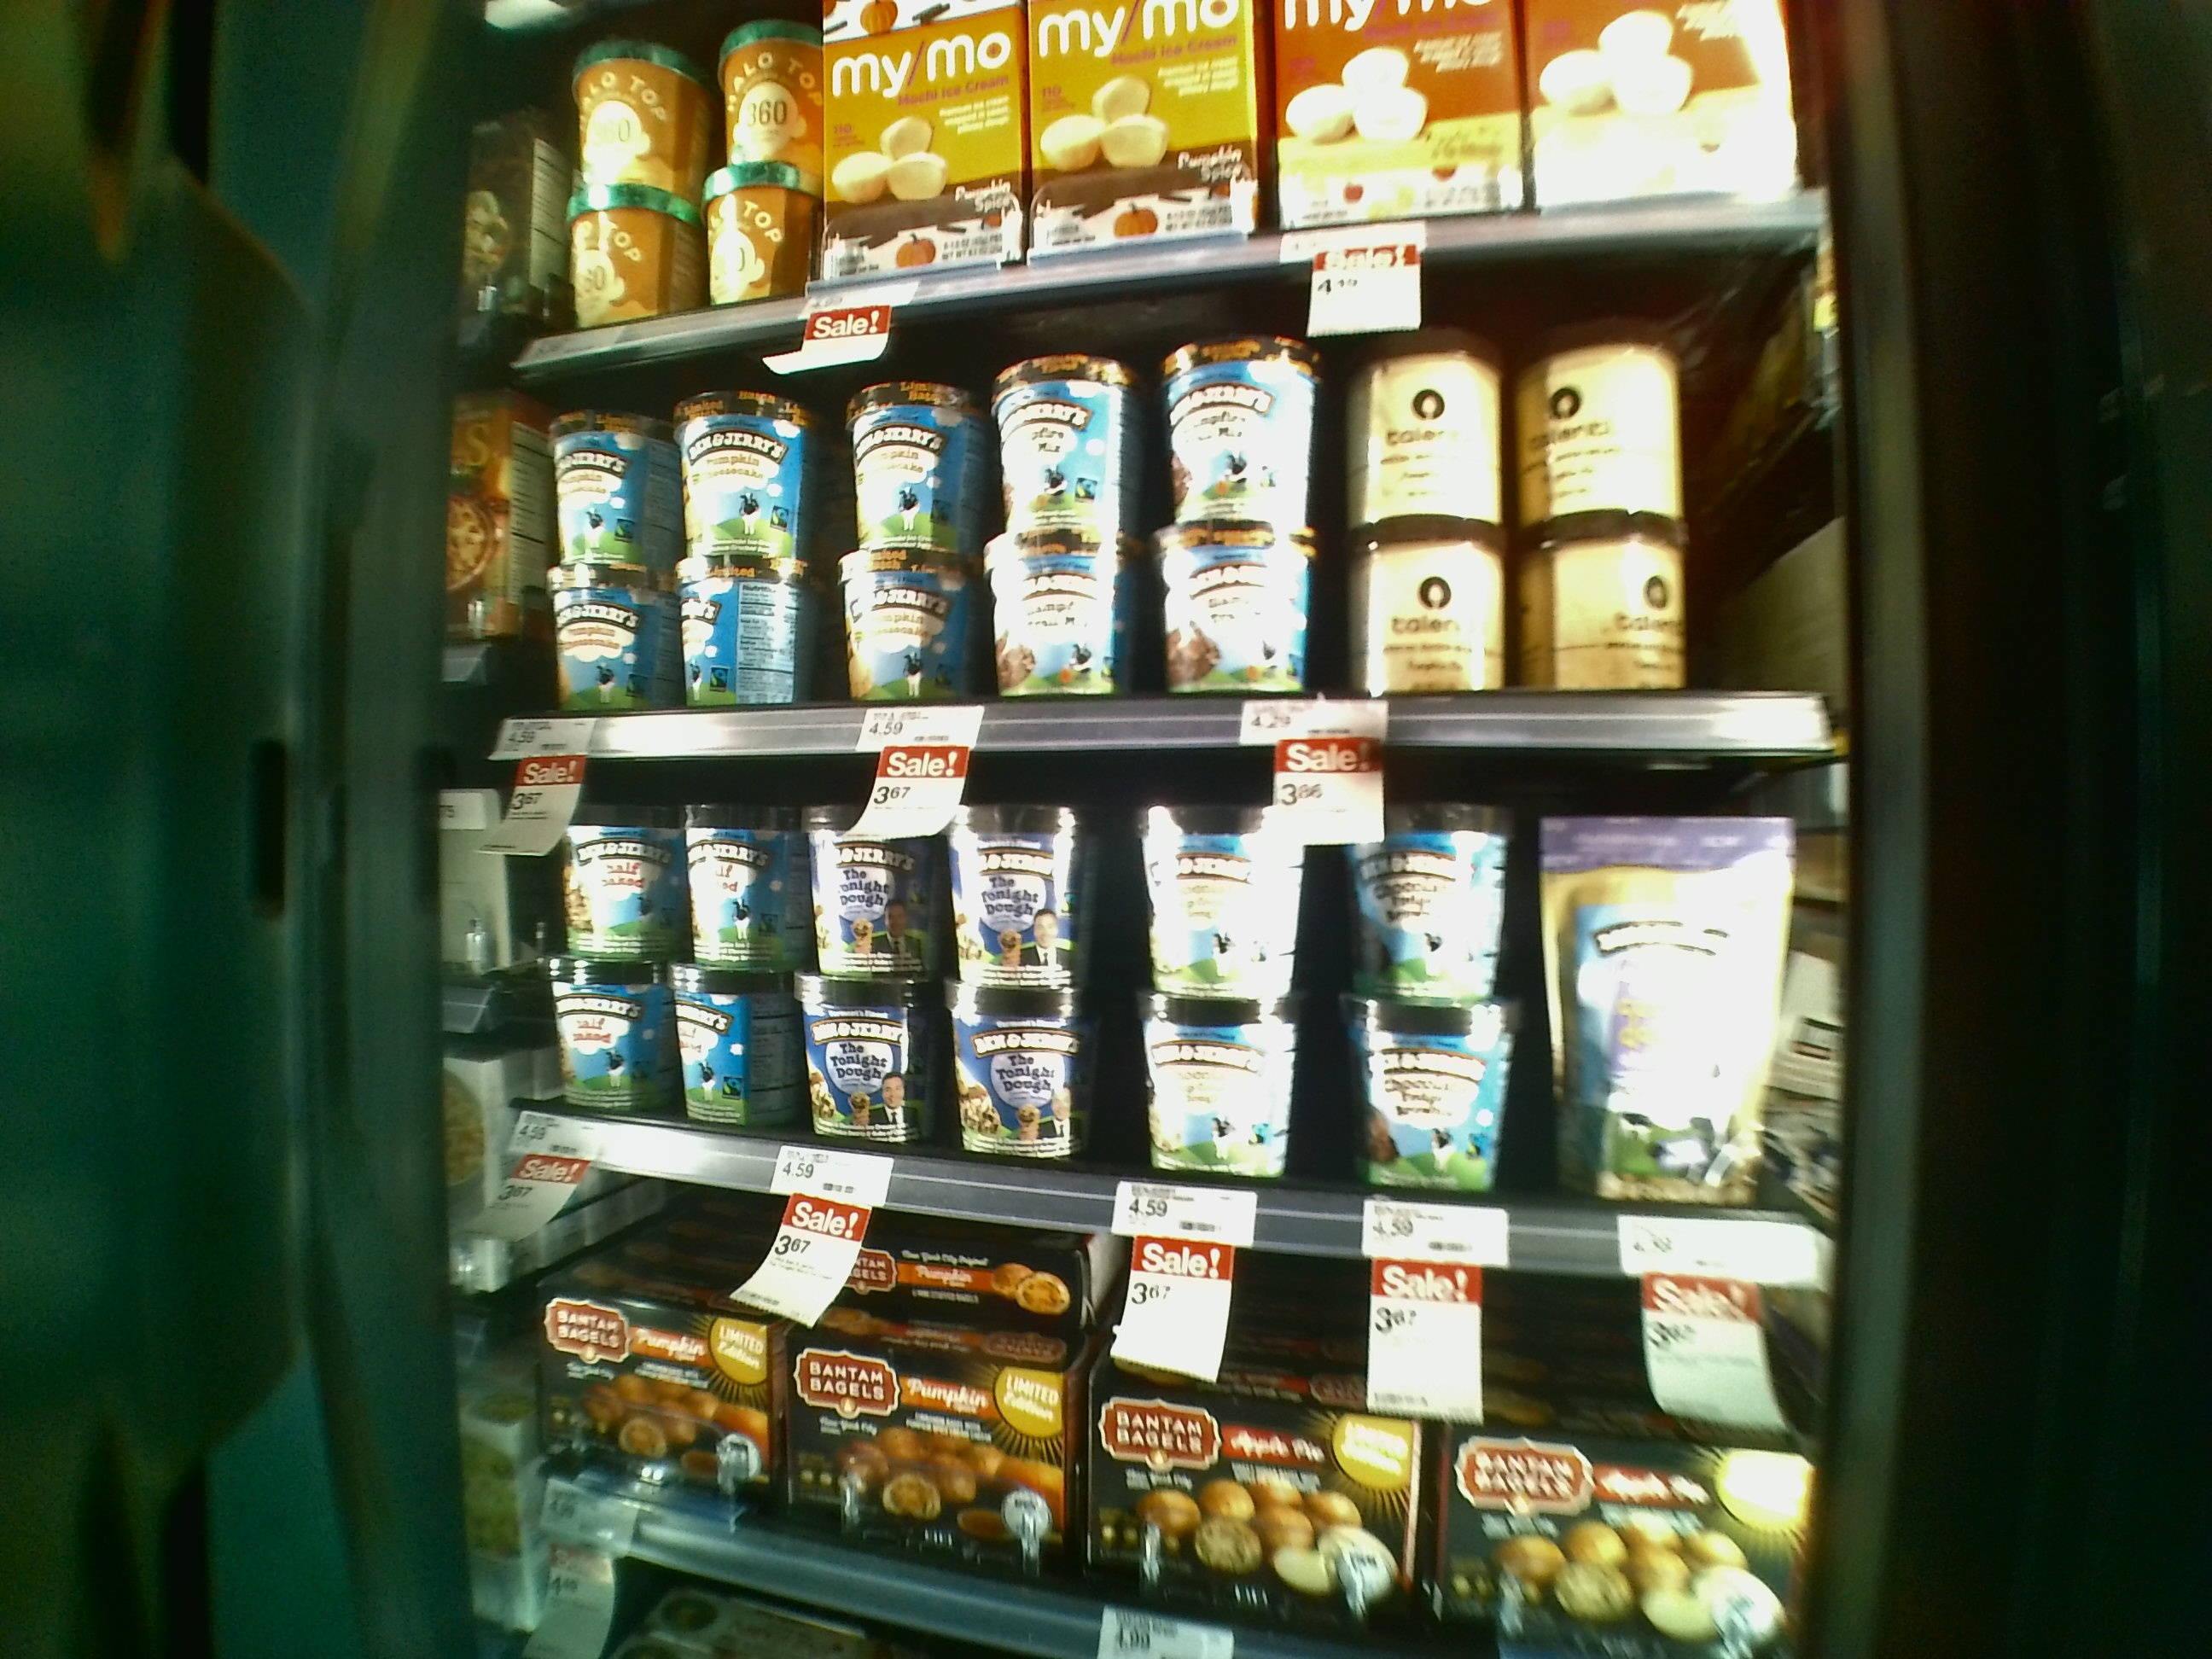shelf: (455, 706, 1869, 1267), (474, 319, 1838, 730)
